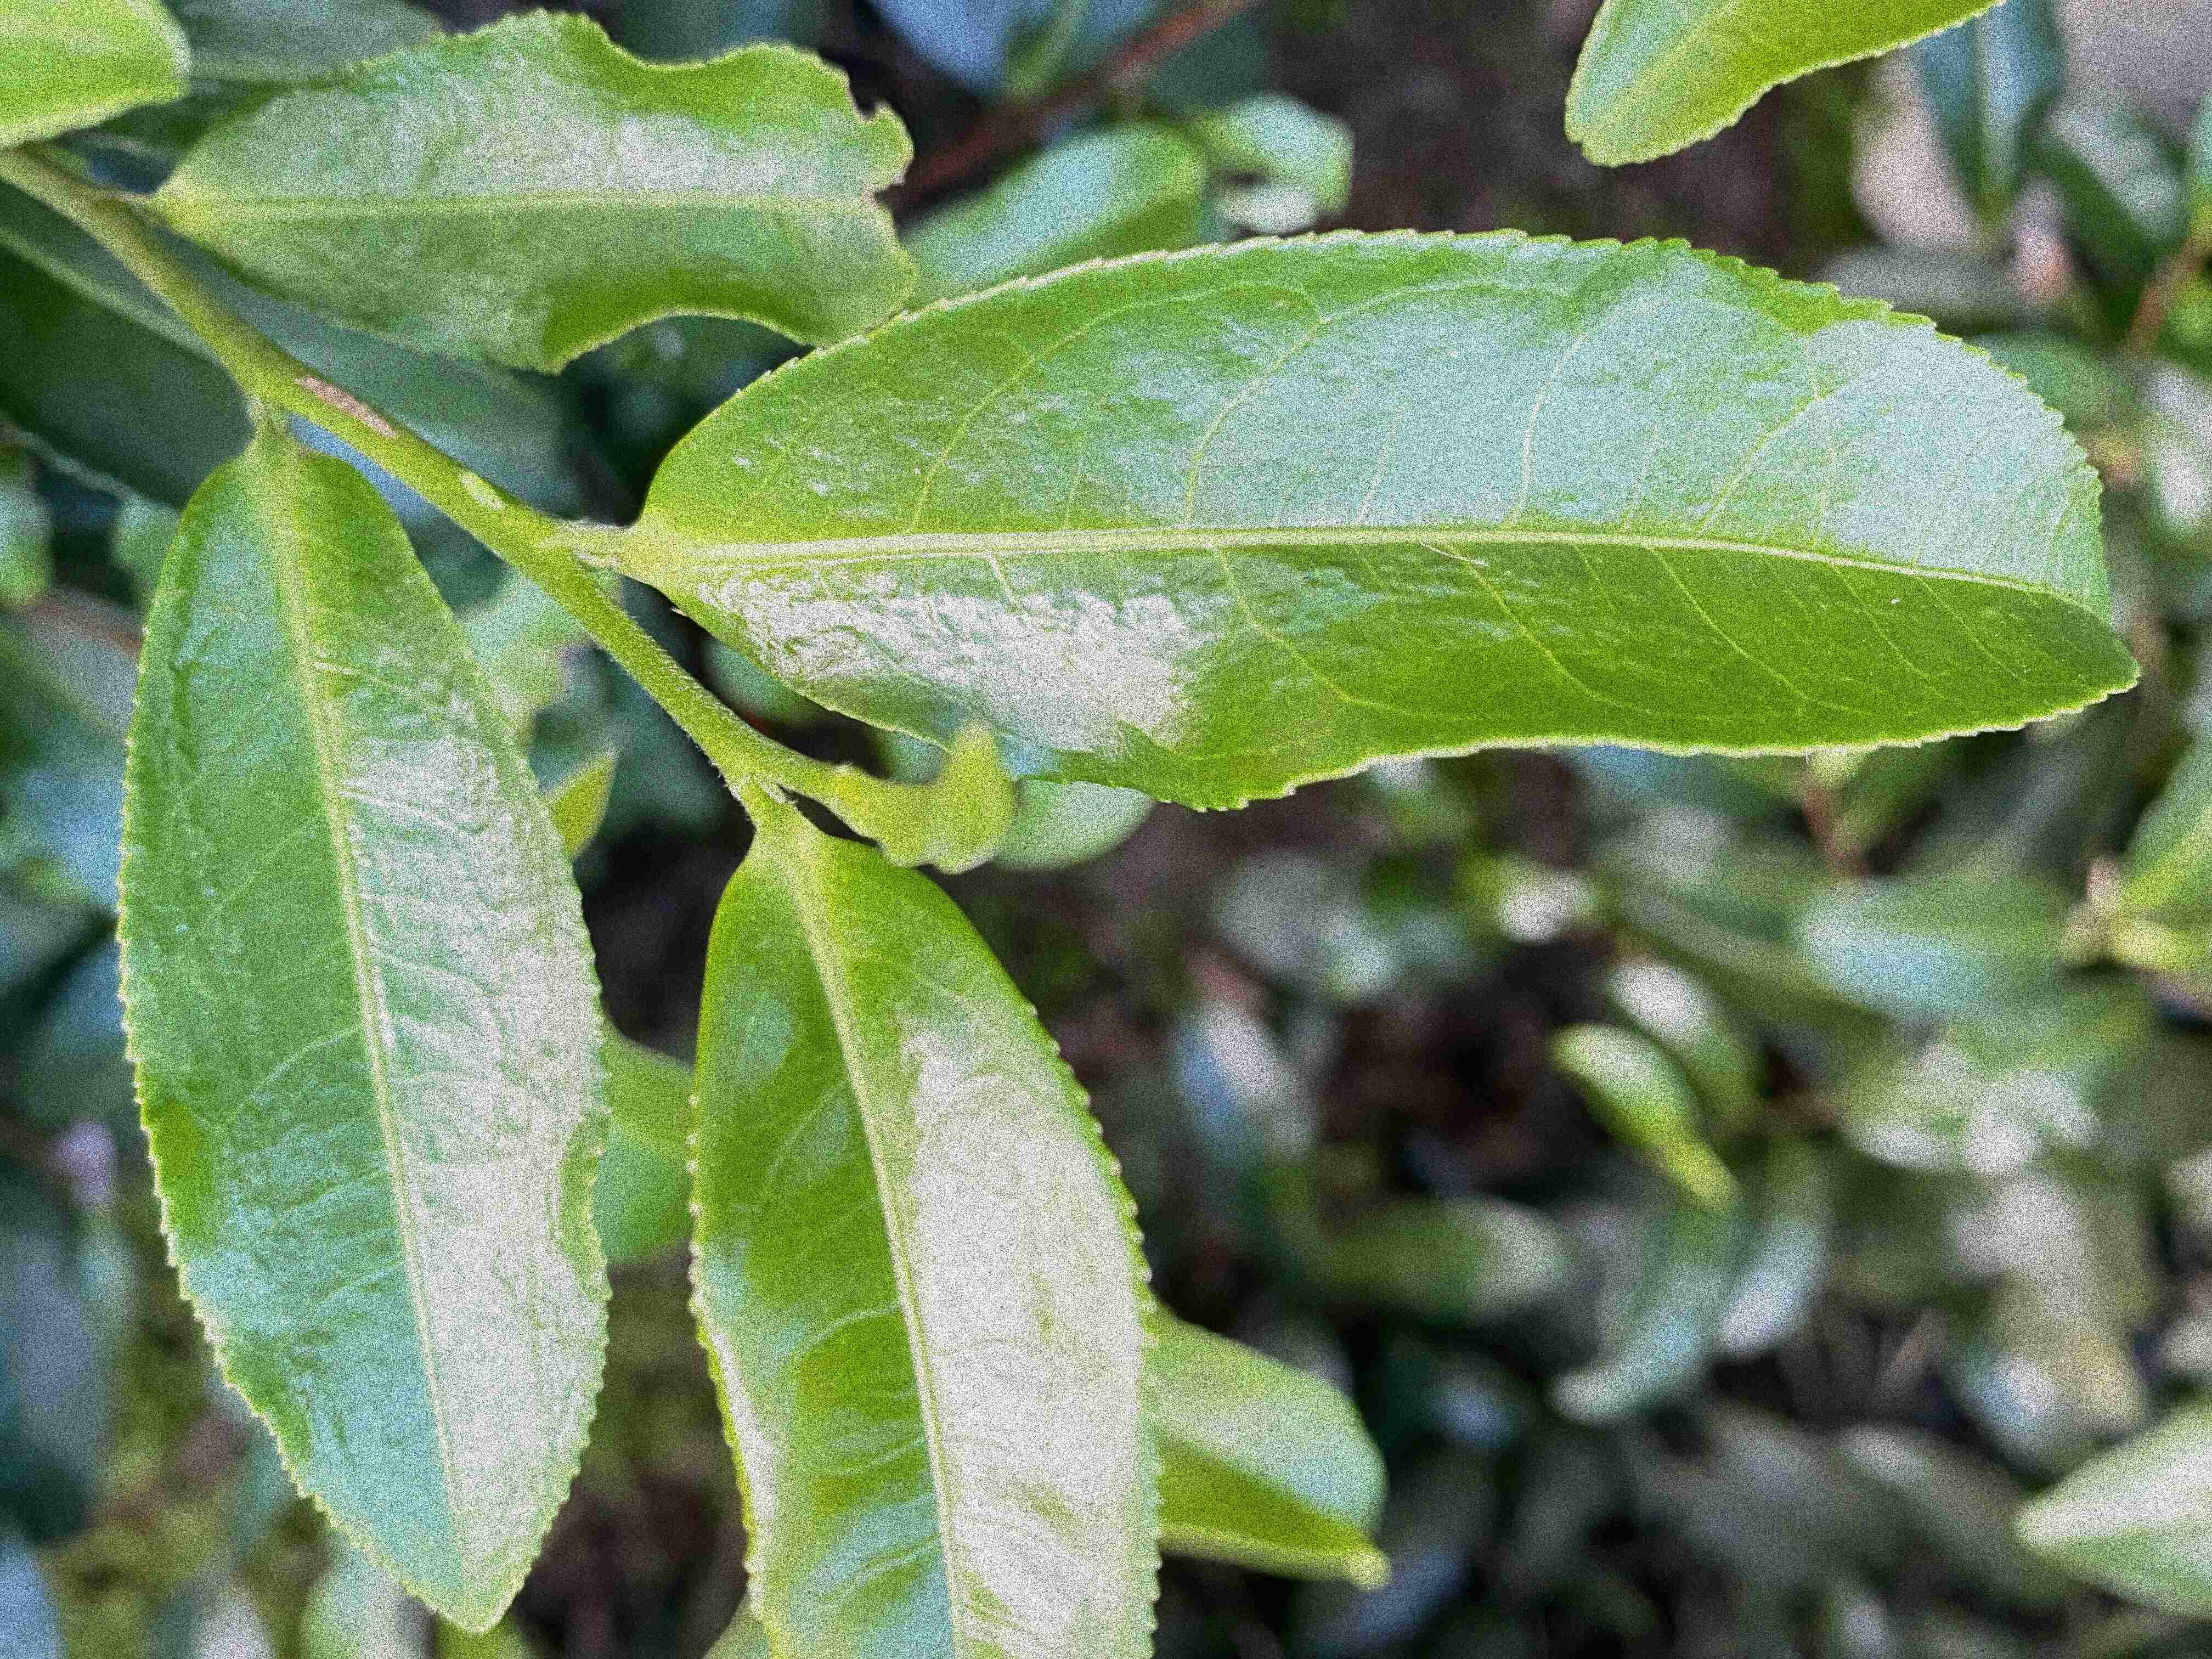chihuo_high: (153, 9, 923, 375)
healthy: (641, 221, 2142, 817), (113, 436, 618, 1635), (683, 833, 1170, 1657)
